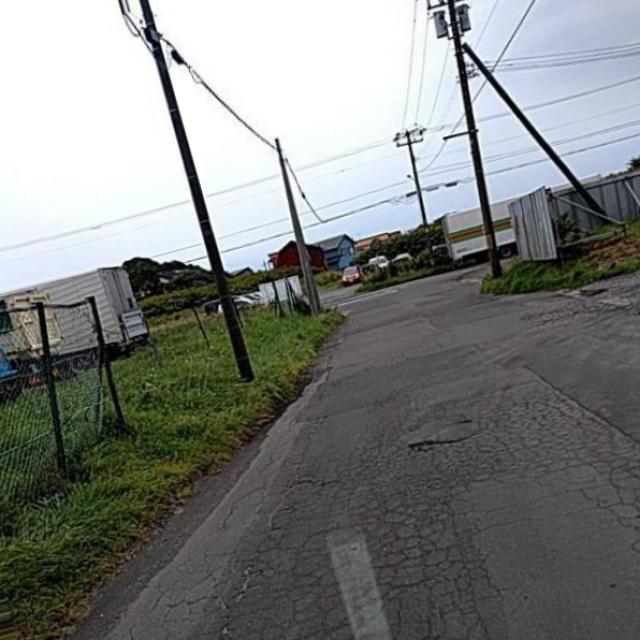Retak Buaya: (203, 383, 640, 640)
